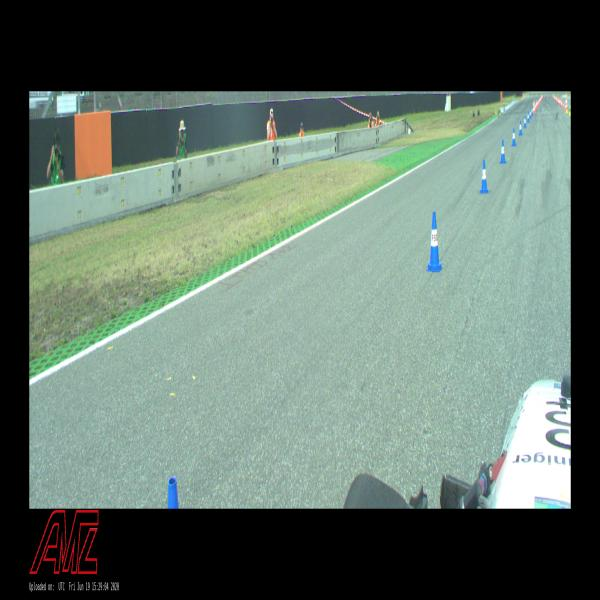blue_cone: (427, 212, 443, 272), (480, 159, 488, 194), (500, 140, 506, 164), (512, 128, 516, 146), (518, 121, 522, 136), (524, 115, 526, 128), (527, 112, 529, 122), (530, 110, 532, 118)
orange_cone: (563, 102, 565, 110)
yellow_cone: (569, 106, 571, 116), (566, 105, 568, 113), (495, 107, 497, 114)
